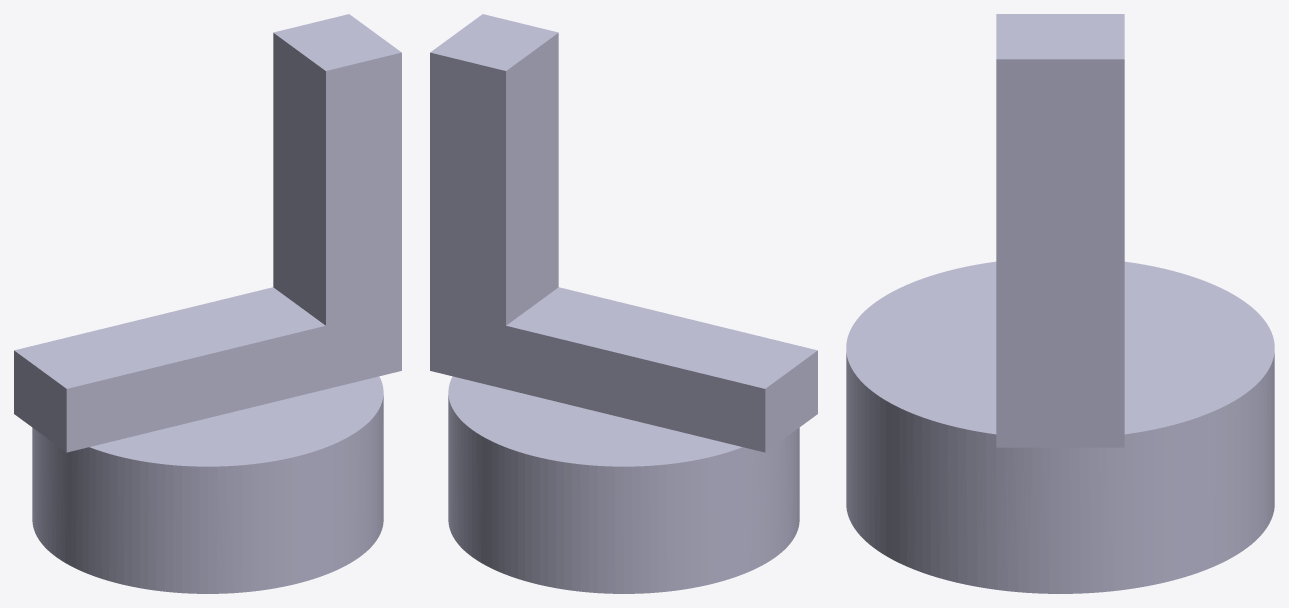
File: Unnamed_base_link_body.dae
3 renders of one model, left to right at view 1: azimuth 30°, elevation 25°; view 2: azimuth 150°, elevation 25°; view 3: azimuth 270°, elevation 25°, orthographic. The views are drawn at different scales.
Visible parts, largest first — view 1: node0; view 2: node0; view 3: node0.
Part boxes in pixels (x1,y1,x2,y2): node0: [14, 14, 401, 593]; node0: [430, 14, 817, 593]; node0: [846, 14, 1274, 593].
Bounding box in the file's own units: 0.1102 × 0.1 × 0.14.
